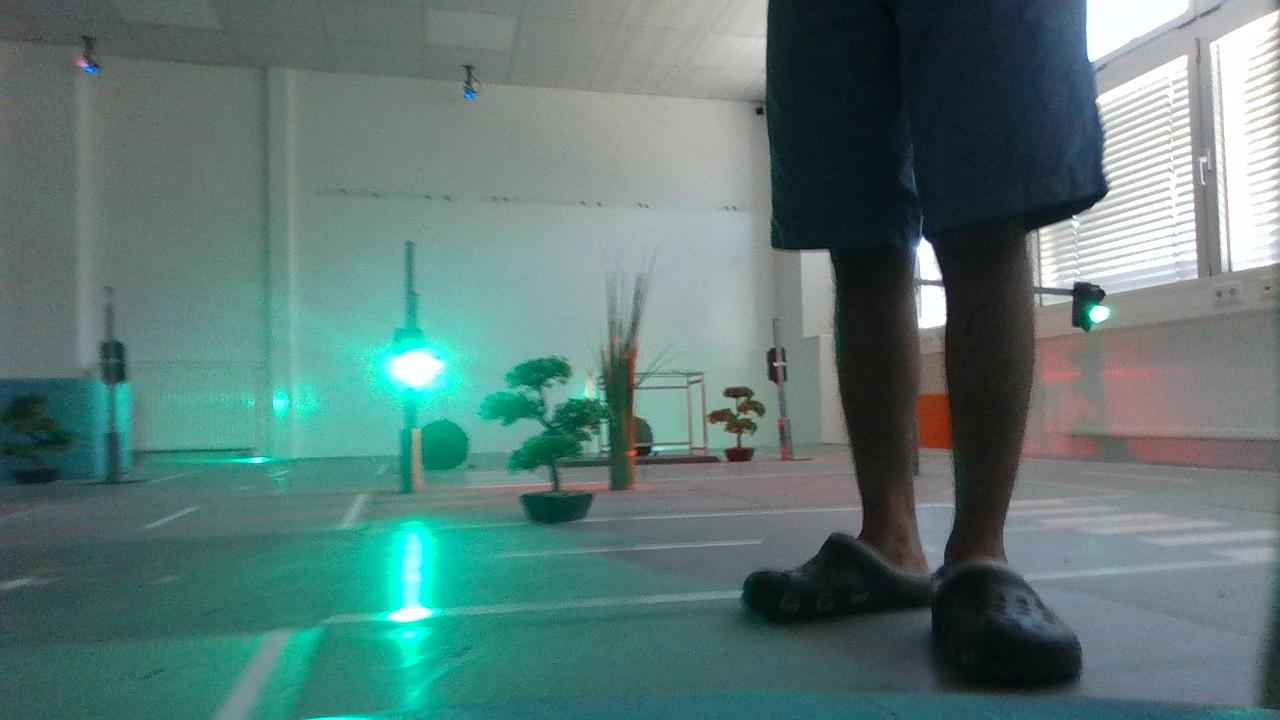traffic_light_green: (385, 323, 441, 409), (1065, 265, 1118, 350)
